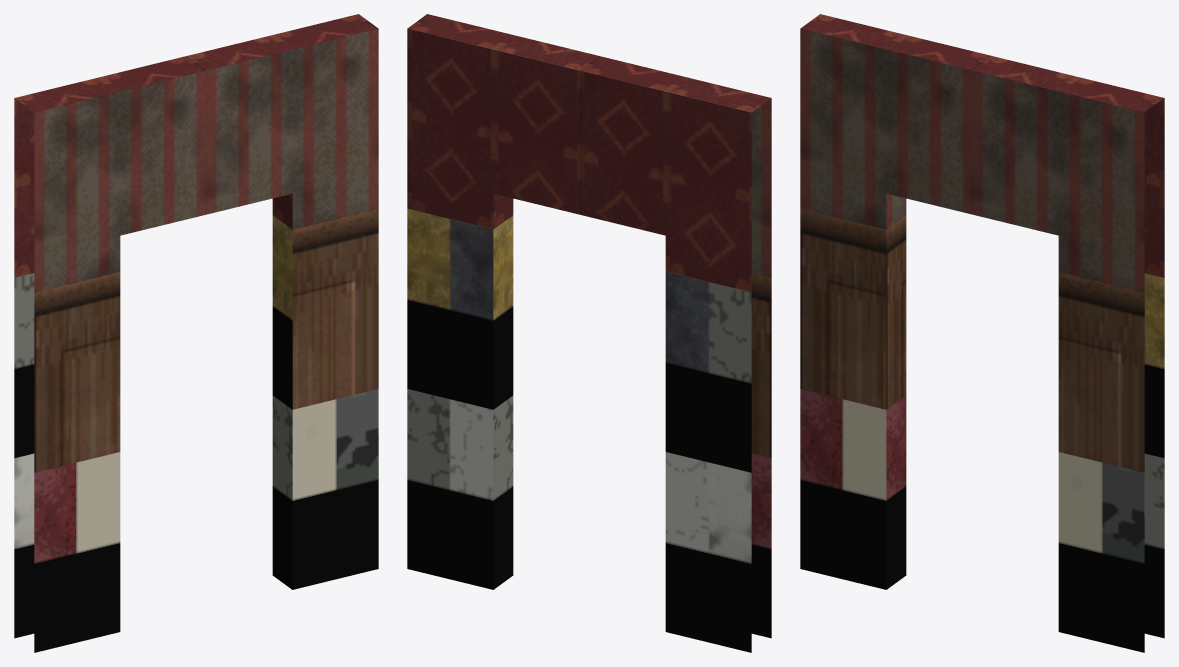
Rendered from SM_wall_doorway_tiled_damask.fbx.
3 renders of one model, left to right at view 1: azimuth 30°, elevation 25°; view 2: azimuth 150°, elevation 25°; view 3: azimuth 330°, elevation 25°, orthographic.
Parts seen in each view (by area): view 1: wall_doorway_tiled_damask; view 2: wall_doorway_tiled_damask; view 3: wall_doorway_tiled_damask.
Boxes of the visible parts, x1=… form: wall_doorway_tiled_damask: x1=14, y1=14, x2=378, y2=652; wall_doorway_tiled_damask: x1=407, y1=14, x2=771, y2=652; wall_doorway_tiled_damask: x1=800, y1=14, x2=1164, y2=652.
Bounding box in the file's own units: 2 × 3 × 0.2.
